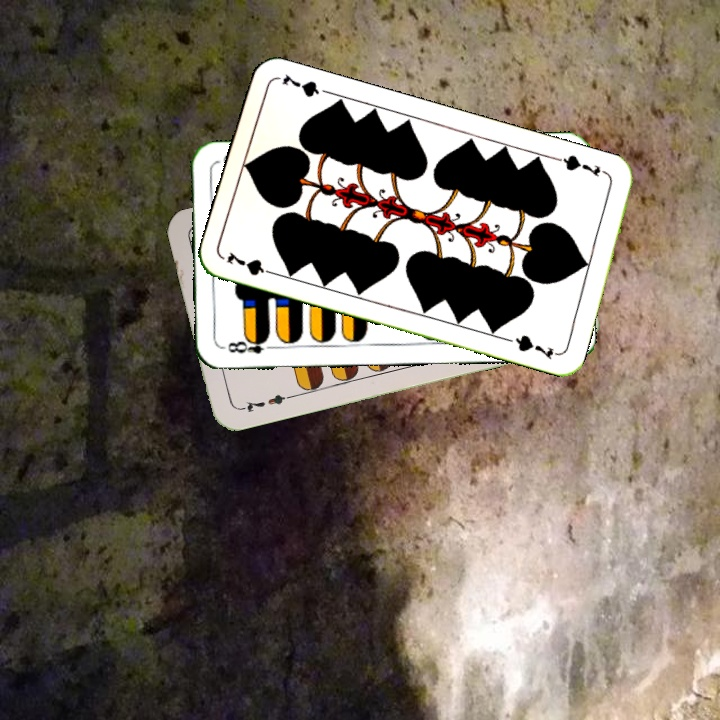E7: (235, 390, 294, 415)
E8: (224, 333, 279, 356)
G7: (222, 248, 280, 278), (553, 150, 611, 180)
